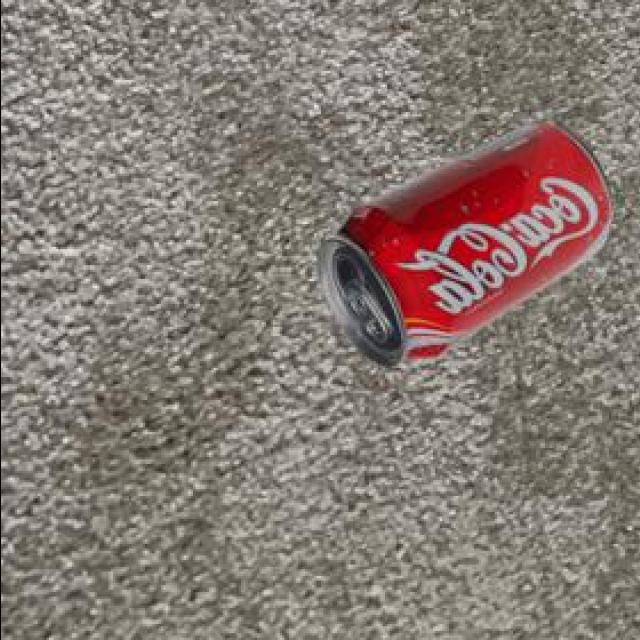logam: (321, 127, 614, 369)
